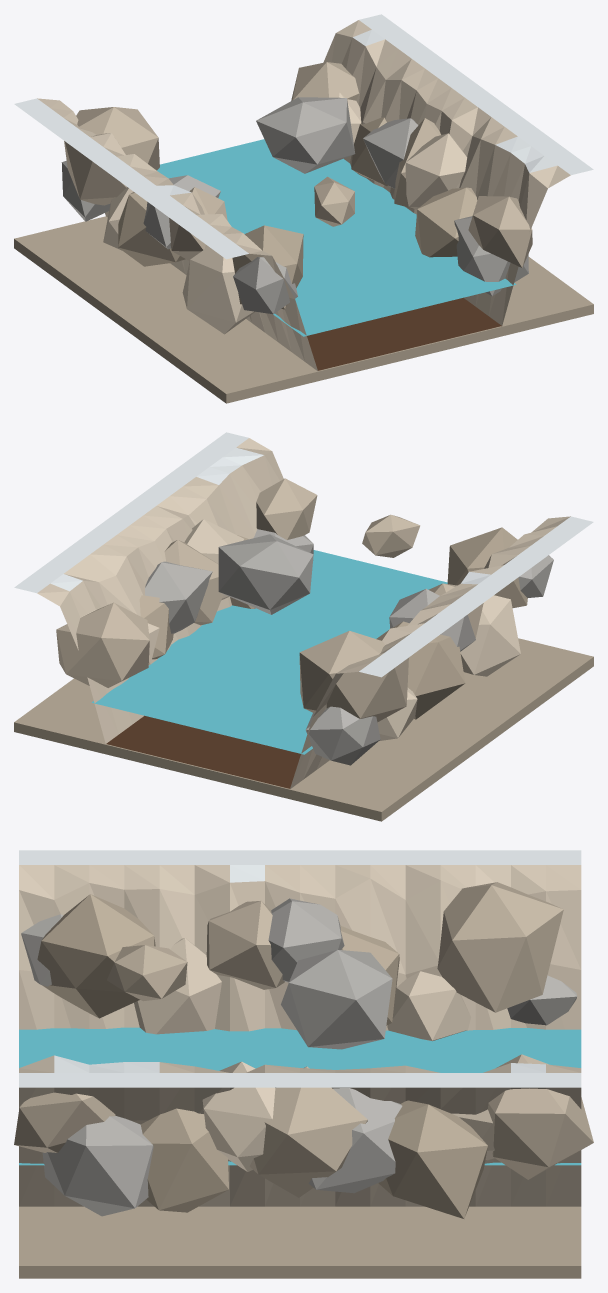
The model's file is stream_straight.glb.
The picture shows the model from 3 angles, top to bottom: view 1: azimuth 30°, elevation 25°; view 2: azimuth 150°, elevation 25°; view 3: azimuth 270°, elevation 25°; orthographic projection. The views are drawn at different scales.
Parts seen in each view (by area): view 1: stream_straight, part_flow; view 2: stream_straight, part_flow; view 3: stream_straight, part_flow.
Part boxes in pixels (x1,y1,x2,y2): stream_straight: (14,14,593,403); part_flow: (157,139,516,336); stream_straight: (14,432,593,821); part_flow: (91,550,447,754); stream_straight: (14,850,593,1278); part_flow: (19,1027,581,1165).
Size of the model in its own units: 2 by 0.8585 by 2.06.
